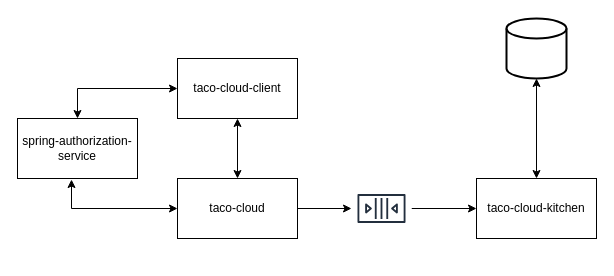
Image size: 614x276. Some labels were removed from this diagram. The shapes that lost their labels are listed below. From the top down, each one's centre as x and y in pixels, then its label:
At [536,48]: "Postgresql".
At [381,208]: "Kafka Queue".
